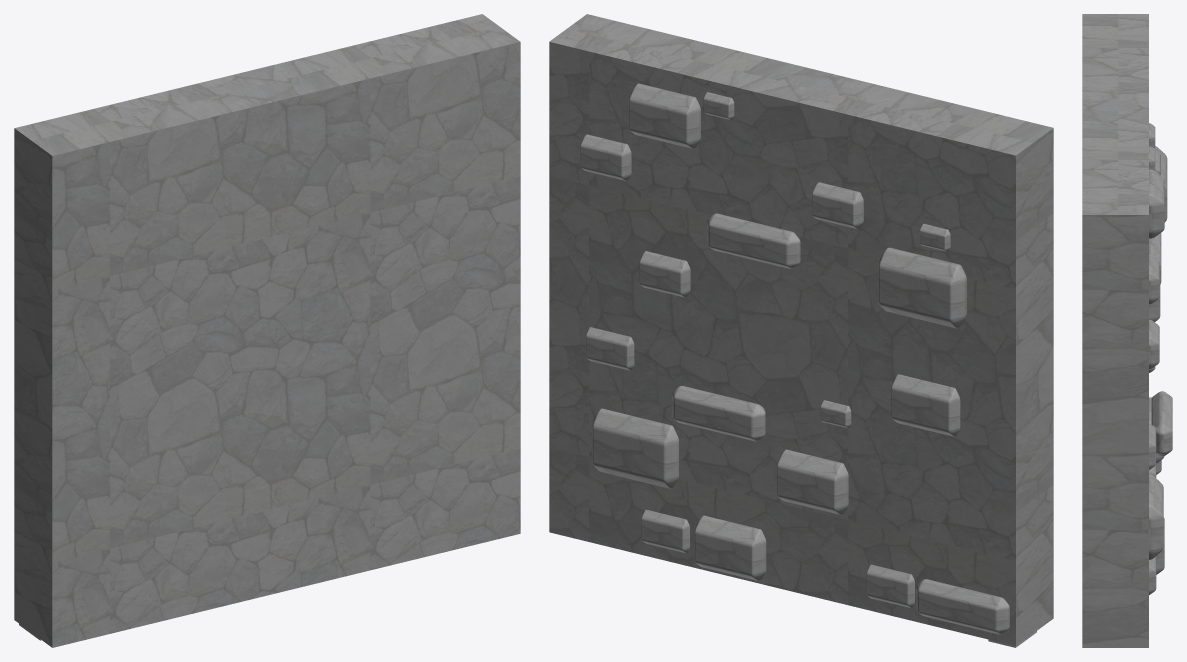
Rendered from Basic_Wall.fbx.
3 views of the same model, side by side, from view 1: azimuth 30°, elevation 25°; view 2: azimuth 150°, elevation 25°; view 3: azimuth 270°, elevation 25° (orthographic). The views are drawn at different scales.
Parts seen in each view (by area): view 1: BasicWall; view 2: BasicWall; view 3: BasicWall.
Boxes of the visible parts, x1,y1,x2,y2 form: BasicWall: (14, 14, 520, 647); BasicWall: (549, 14, 1053, 647); BasicWall: (1082, 14, 1172, 647).
Size of the model in its own units: 3212 by 3252 by 612.
